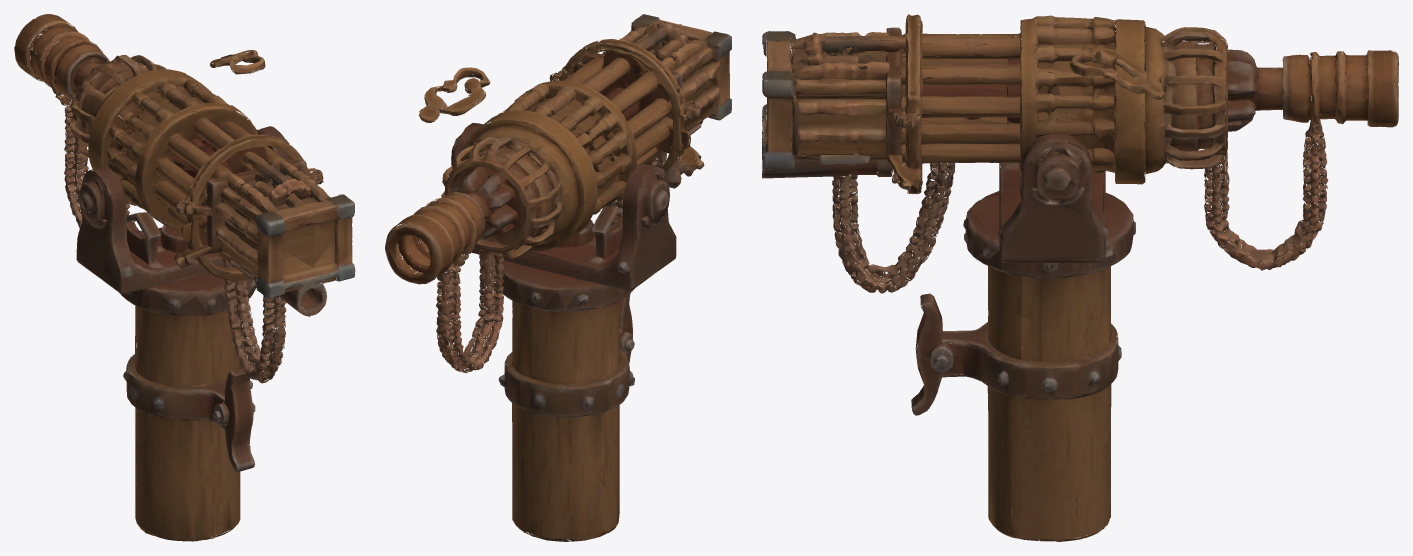
File: repeater_post.glb
3 renders of one model, left to right at view 1: azimuth 30°, elevation 25°; view 2: azimuth 150°, elevation 25°; view 3: azimuth 270°, elevation 25°, orthographic. The views are drawn at different scales.
Parts seen in each view (by area): view 1: gun, base, spin0; view 2: gun, base, spin0; view 3: gun, base, spin0.
Boxes of the visible parts, x1,y1,x2,y2 form: gun: (64,50,355,343); base: (67,194,285,541); spin0: (14,14,163,152); gun: (418,14,731,355); base: (439,271,634,541); spin0: (385,145,548,287); gun: (762,14,1328,275); base: (834,220,1317,541); spin0: (1195,28,1398,166).
Bounding box in the file's own units: 0.9834 × 2 × 2.28.
Materials: 1 (1 with a texture image).
